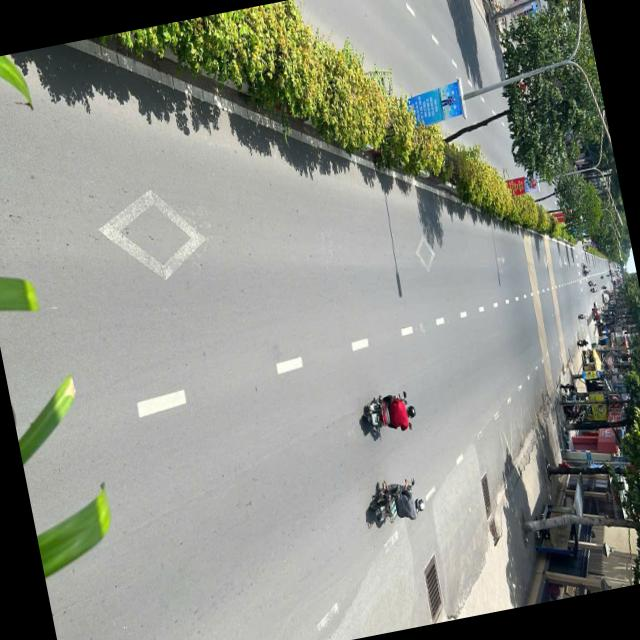motobyte: (357, 472, 431, 540), (349, 383, 424, 450)
